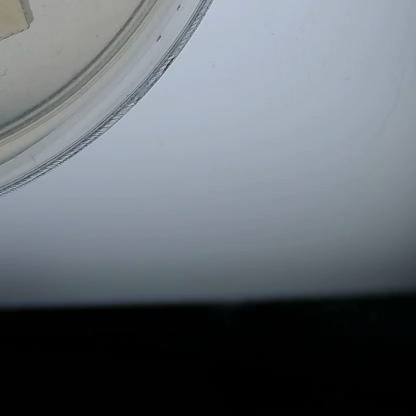worm: (0, 64, 14, 79)
